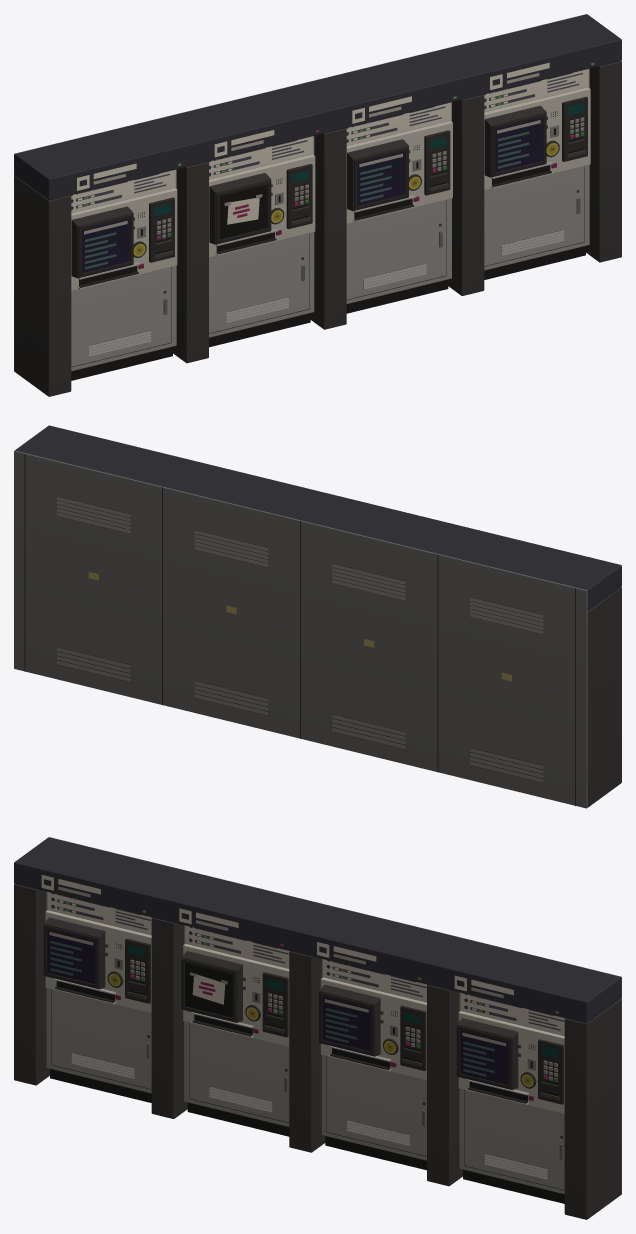
File: ticket_machine.glb
3 renders of one model, top to bottom at view 1: azimuth 30°, elevation 25°; view 2: azimuth 150°, elevation 25°; view 3: azimuth 330°, elevation 25°, orthographic.
Visible parts, largest first — view 1: ticket_machine; view 2: ticket_machine; view 3: ticket_machine.
Boxes of the visible parts, x1,y1,x2,y2 form: ticket_machine: (14, 14, 621, 396); ticket_machine: (14, 425, 621, 808); ticket_machine: (14, 837, 621, 1219).
Size of the model in its own units: 5.5 by 2 by 0.5988.
